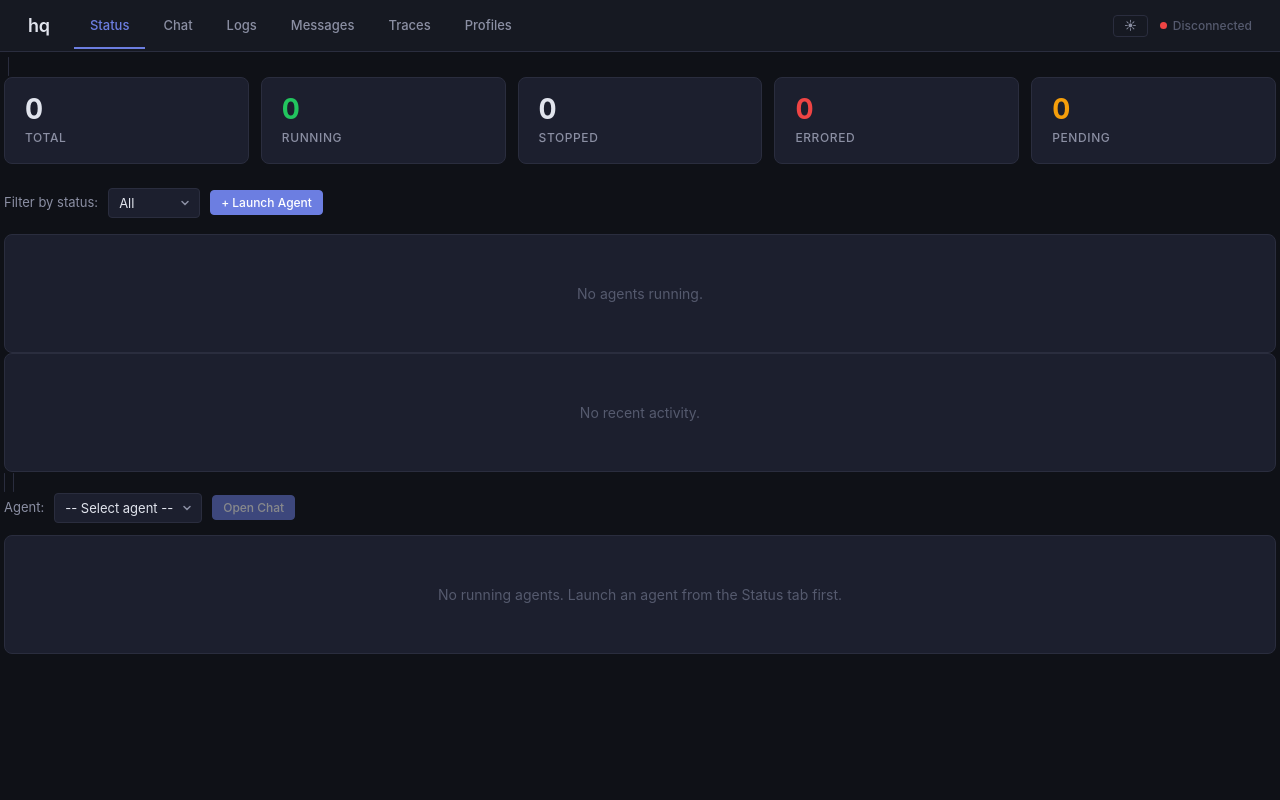
Test: LaunchDialog › new profile toggle shows form
Click the button with test id "open-launch".
click(266, 203)  # box [210, 190, 323, 215]
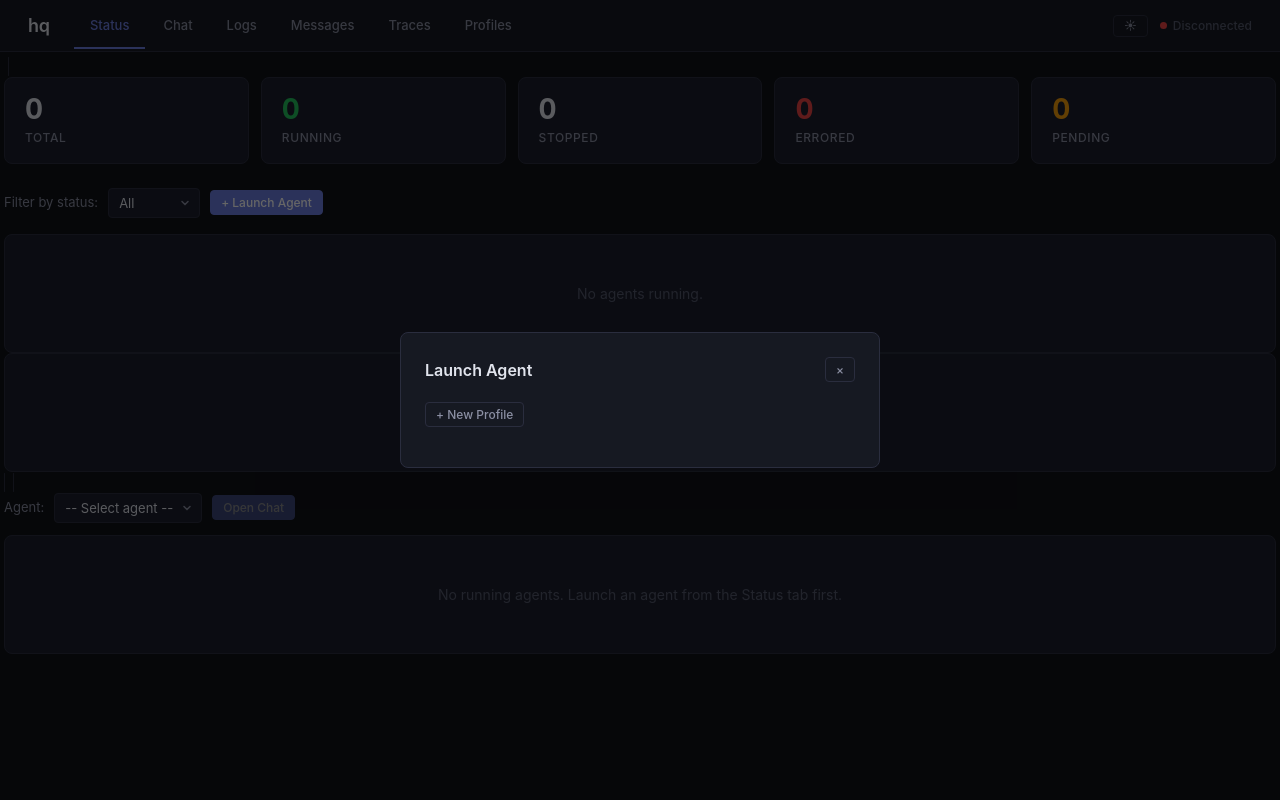
Click the button with test id "new-profile-toggle".
click(475, 414)  # box [425, 402, 524, 427]
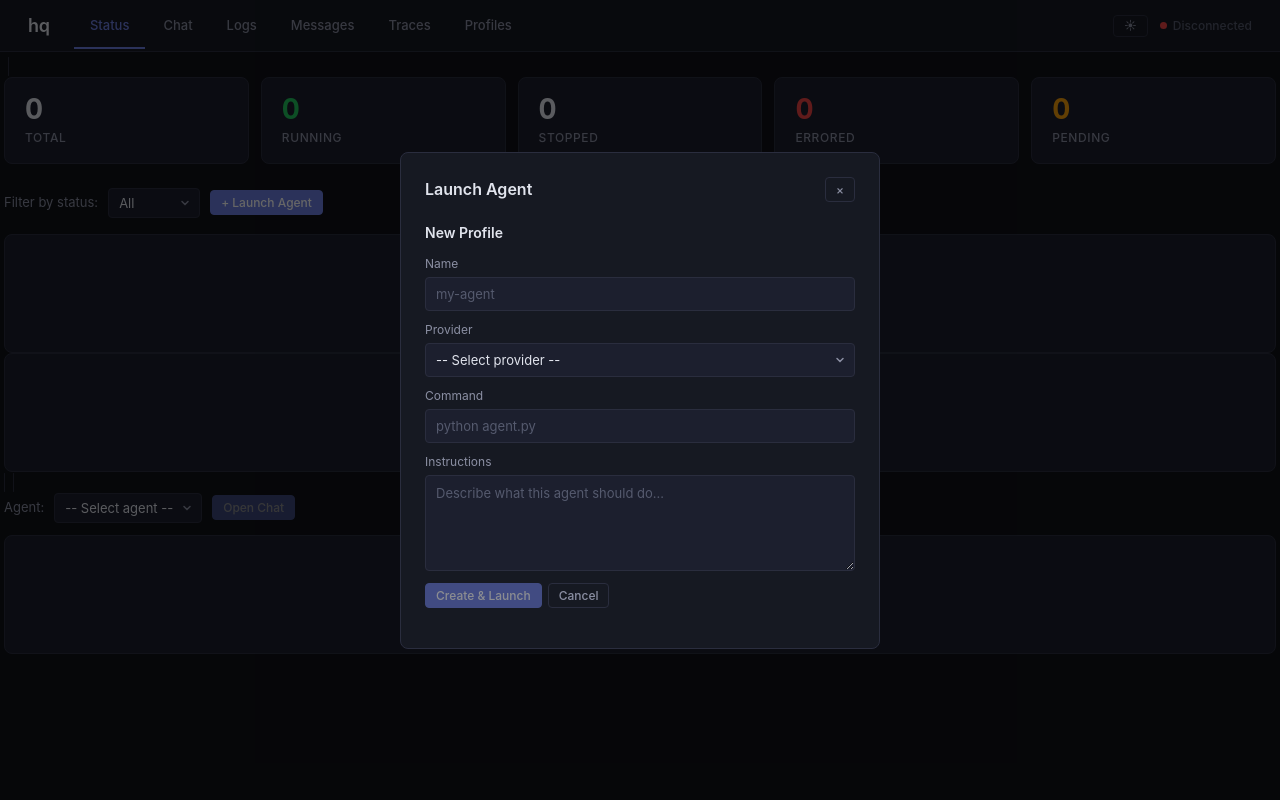
Check: the element with test id "new-profile-form" is shown, box [425, 222, 855, 608]
Check: the field with test id "np-name" is shown, box [425, 276, 855, 310]
Check: the dropdown with test id "np-provider" is shown, box [425, 342, 855, 376]
